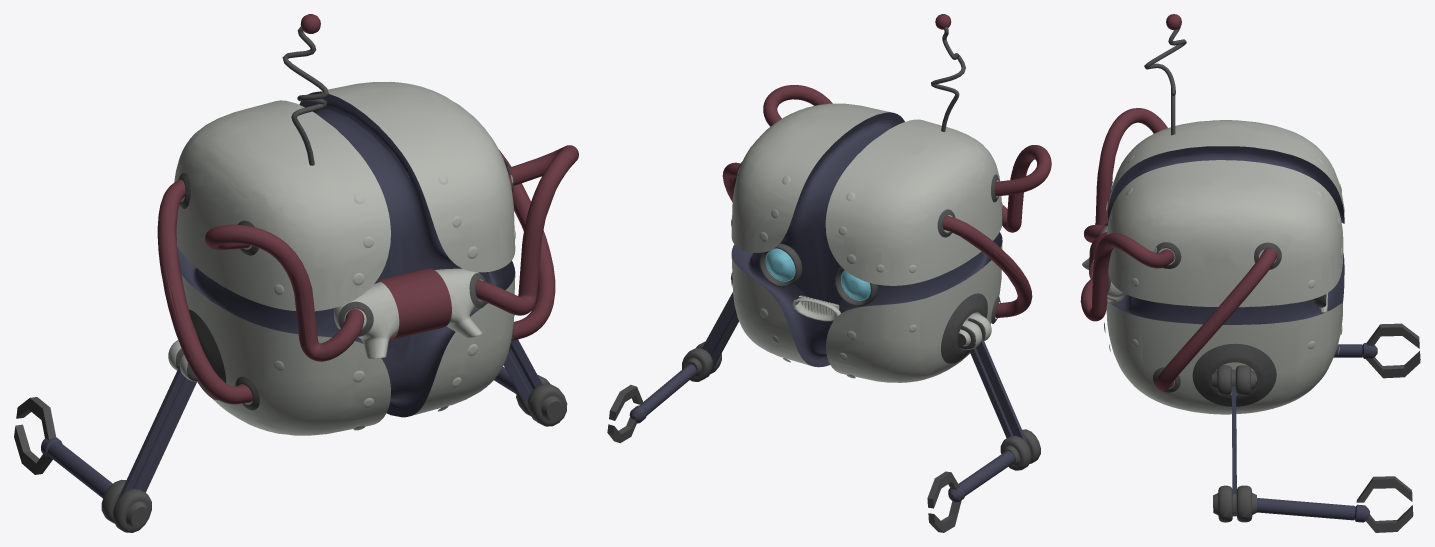
Rendered from PNG2.fbx.
3 renders of one model, left to right at view 1: azimuth 30°, elevation 25°; view 2: azimuth 150°, elevation 25°; view 3: azimuth 270°, elevation 25°, orthographic. The views are drawn at different scales.
Parts seen in each view (by area): view 1: robot; view 2: robot; view 3: robot.
Boxes of the visible parts, left/top/right/bottom form: robot: left=14, top=14, right=578, bottom=532; robot: left=607, top=14, right=1051, bottom=532; robot: left=1080, top=14, right=1420, bottom=532.
Size of the model in its own units: 143 by 118 by 160.
